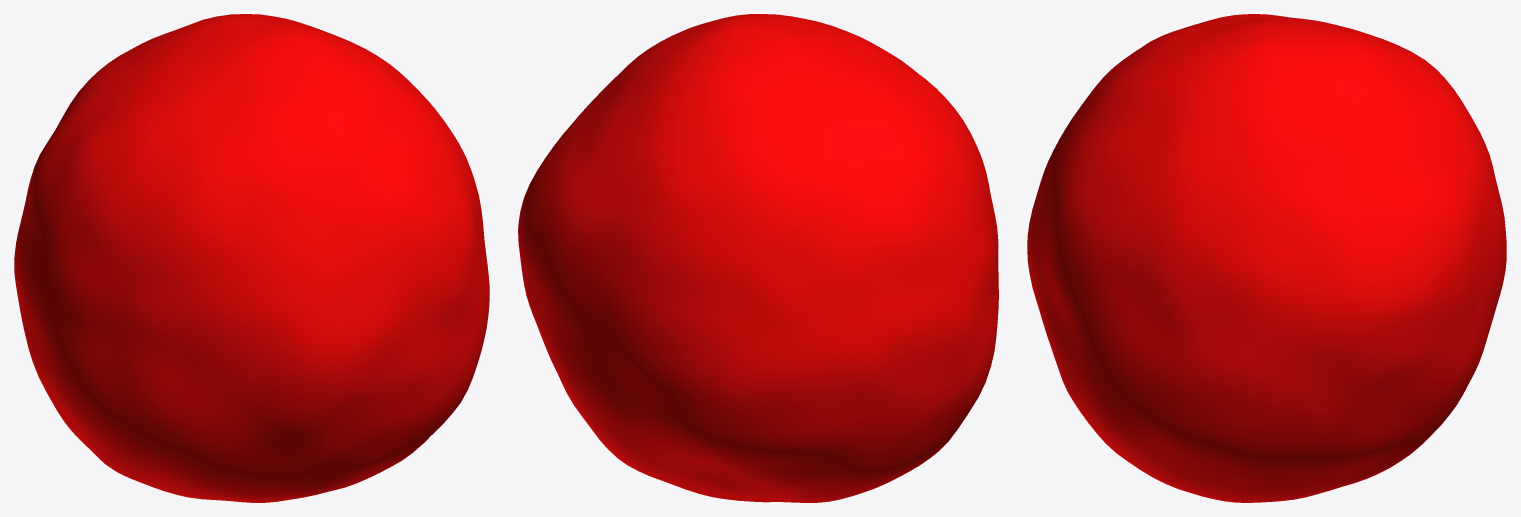
Rendered from Mmycoides_PackingSurf_1_Med.dae.
3 renders of one model, left to right at view 1: azimuth 30°, elevation 25°; view 2: azimuth 150°, elevation 25°; view 3: azimuth 270°, elevation 25°, orthographic.
Visible parts, largest first — view 1: MycoplasmaPackSurf_1_med; view 2: MycoplasmaPackSurf_1_med; view 3: MycoplasmaPackSurf_1_med.
Boxes of the visible parts, box(x1,y1,x2,y2) form: MycoplasmaPackSurf_1_med: box(14, 14, 489, 502); MycoplasmaPackSurf_1_med: box(518, 14, 998, 502); MycoplasmaPackSurf_1_med: box(1027, 14, 1506, 502).
Bounding box in the file's own units: 3560 × 3681 × 3554.
